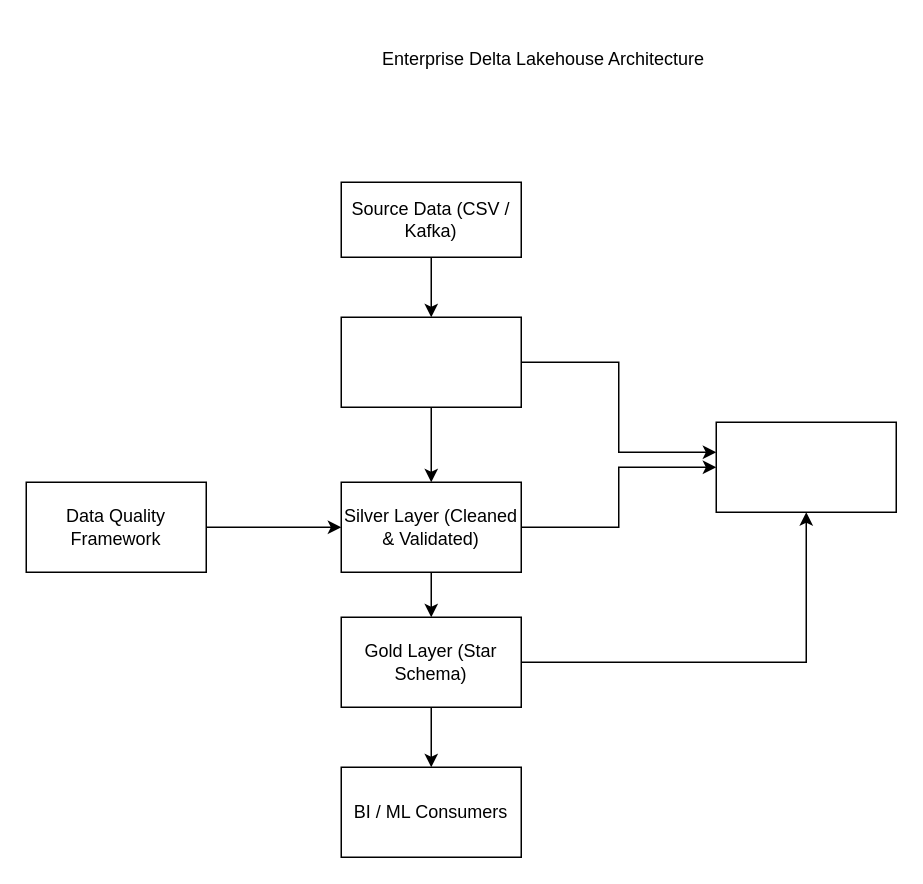
Some shapes in this 923 by 884 pixel diagram are drawn without their labels. The centre of each missing label's shape, as x and y in pixels:
Bronze Layer (Raw Data - S3): the point at 430,361
Pipeline Monitoring: the point at 805,466
